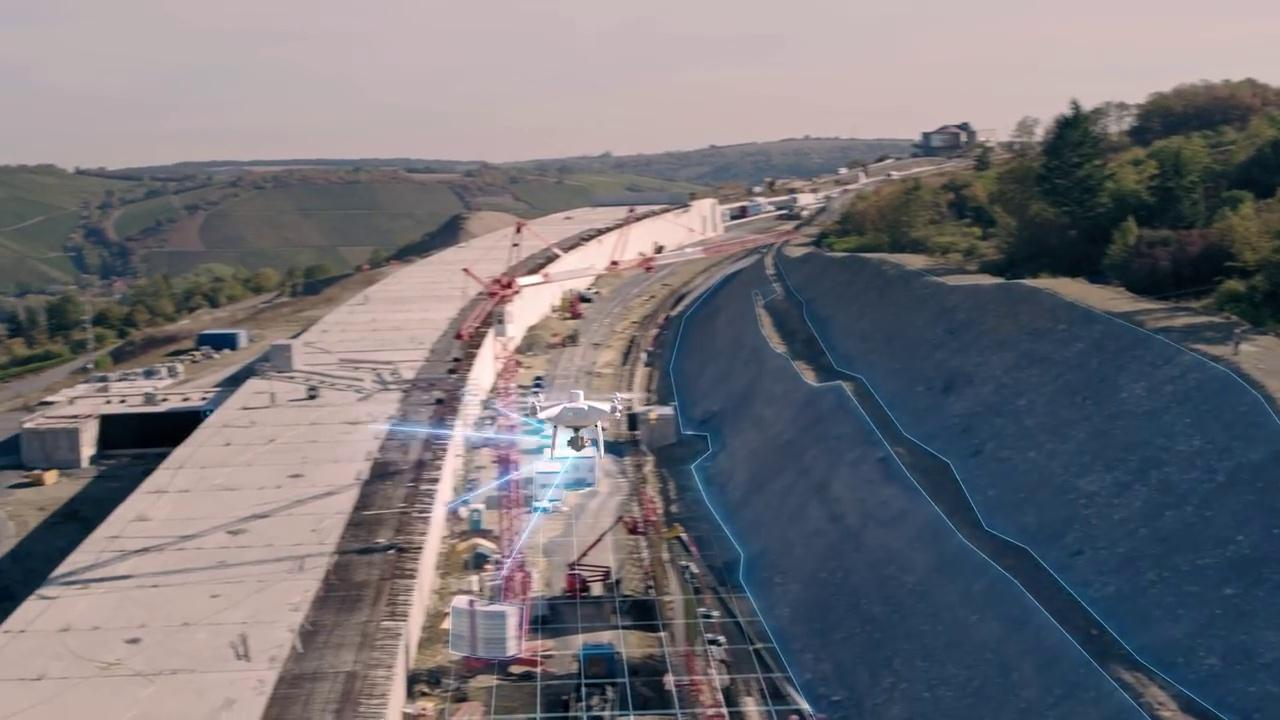drone: (514, 385, 644, 463)
